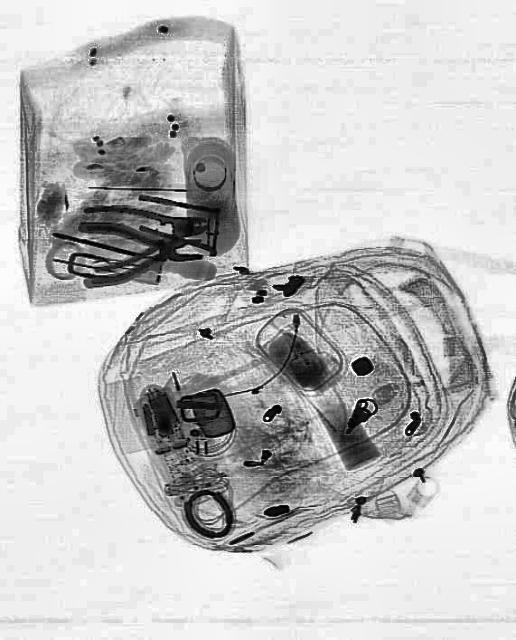Pliers: (82, 194, 210, 272), (77, 216, 201, 286)
